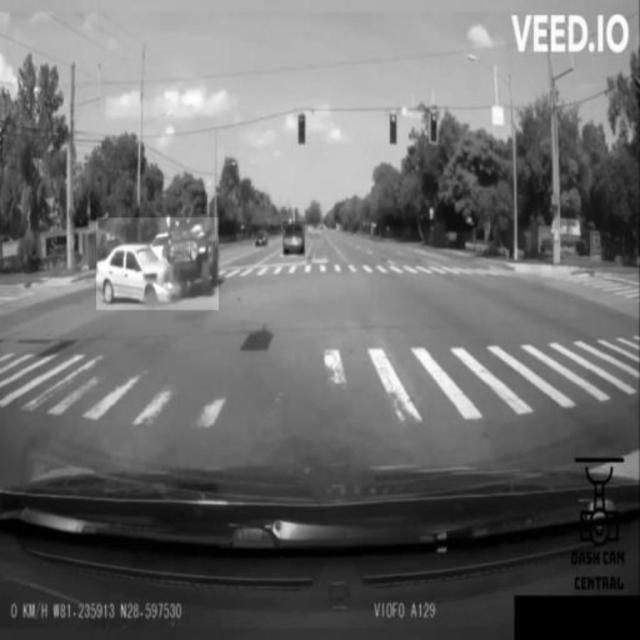accident: (96, 218, 218, 311)
vehicle: (282, 222, 306, 257)
